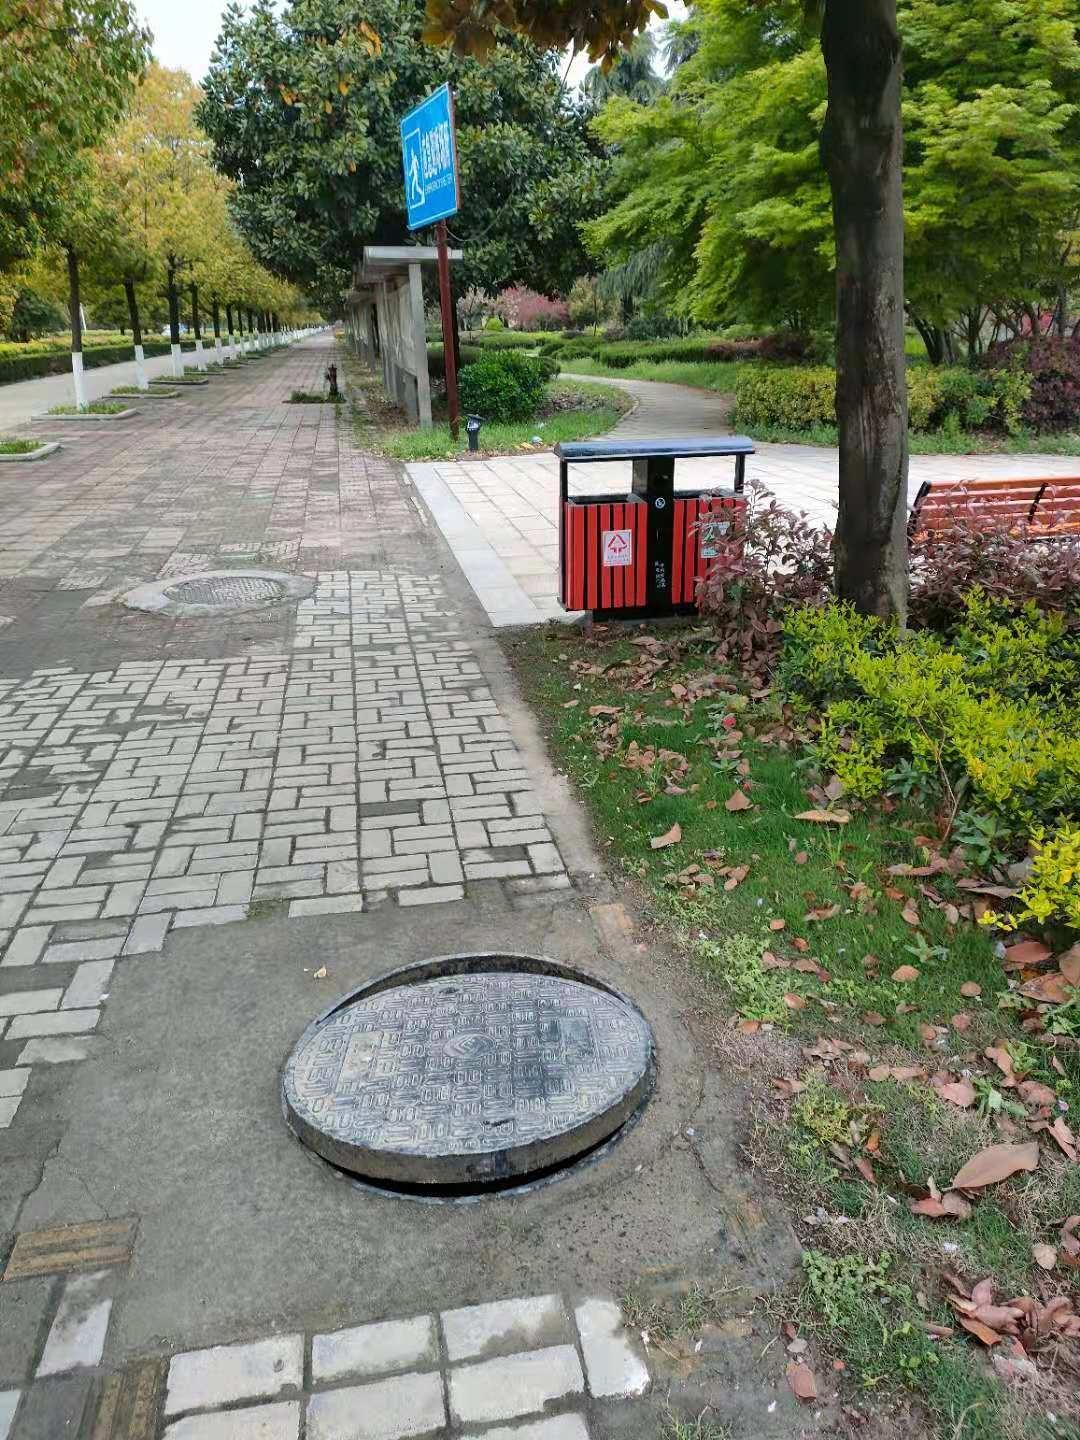wellcover: (271, 941, 694, 1212), (113, 564, 296, 637)
